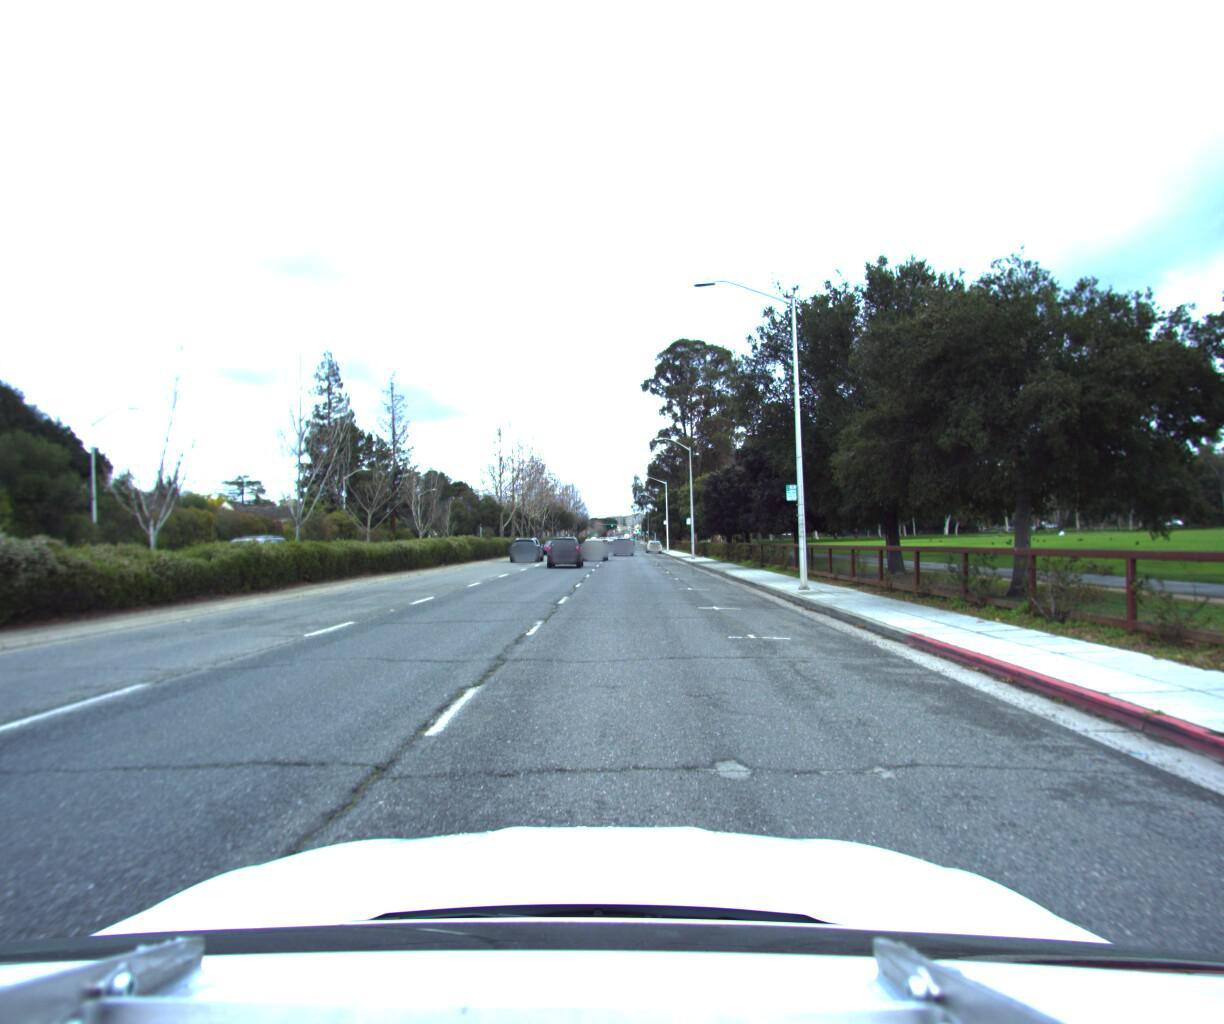car: (547, 540, 584, 573), (508, 542, 544, 569), (579, 544, 608, 568), (612, 543, 632, 562)
